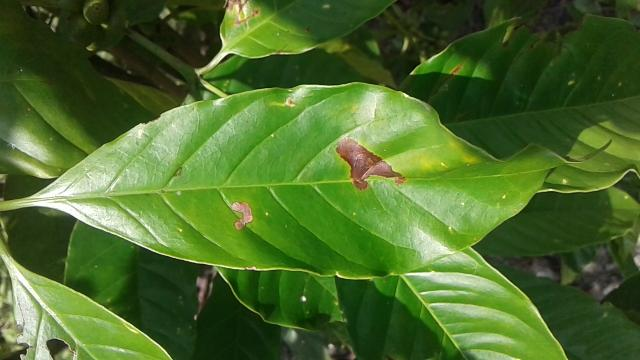red_spider_mite: (36, 76, 617, 281)
